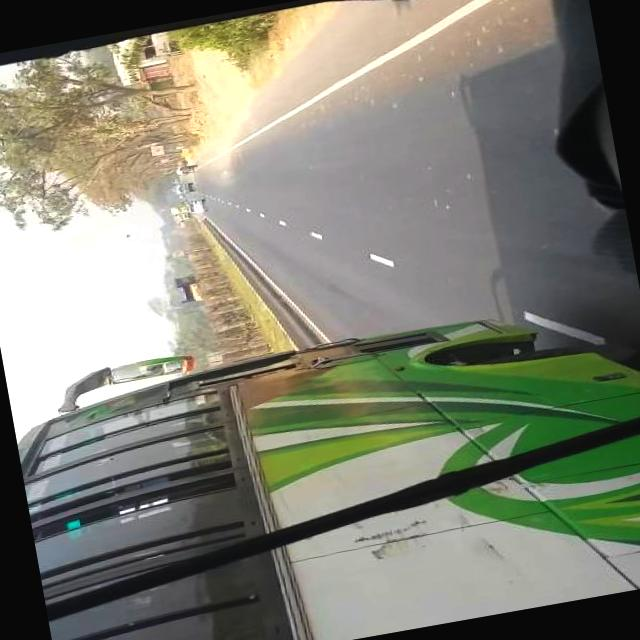bus: (13, 271, 640, 640)
car: (185, 196, 205, 214)
truck: (172, 272, 206, 302), (170, 180, 190, 193), (168, 202, 185, 214), (174, 211, 186, 221)
